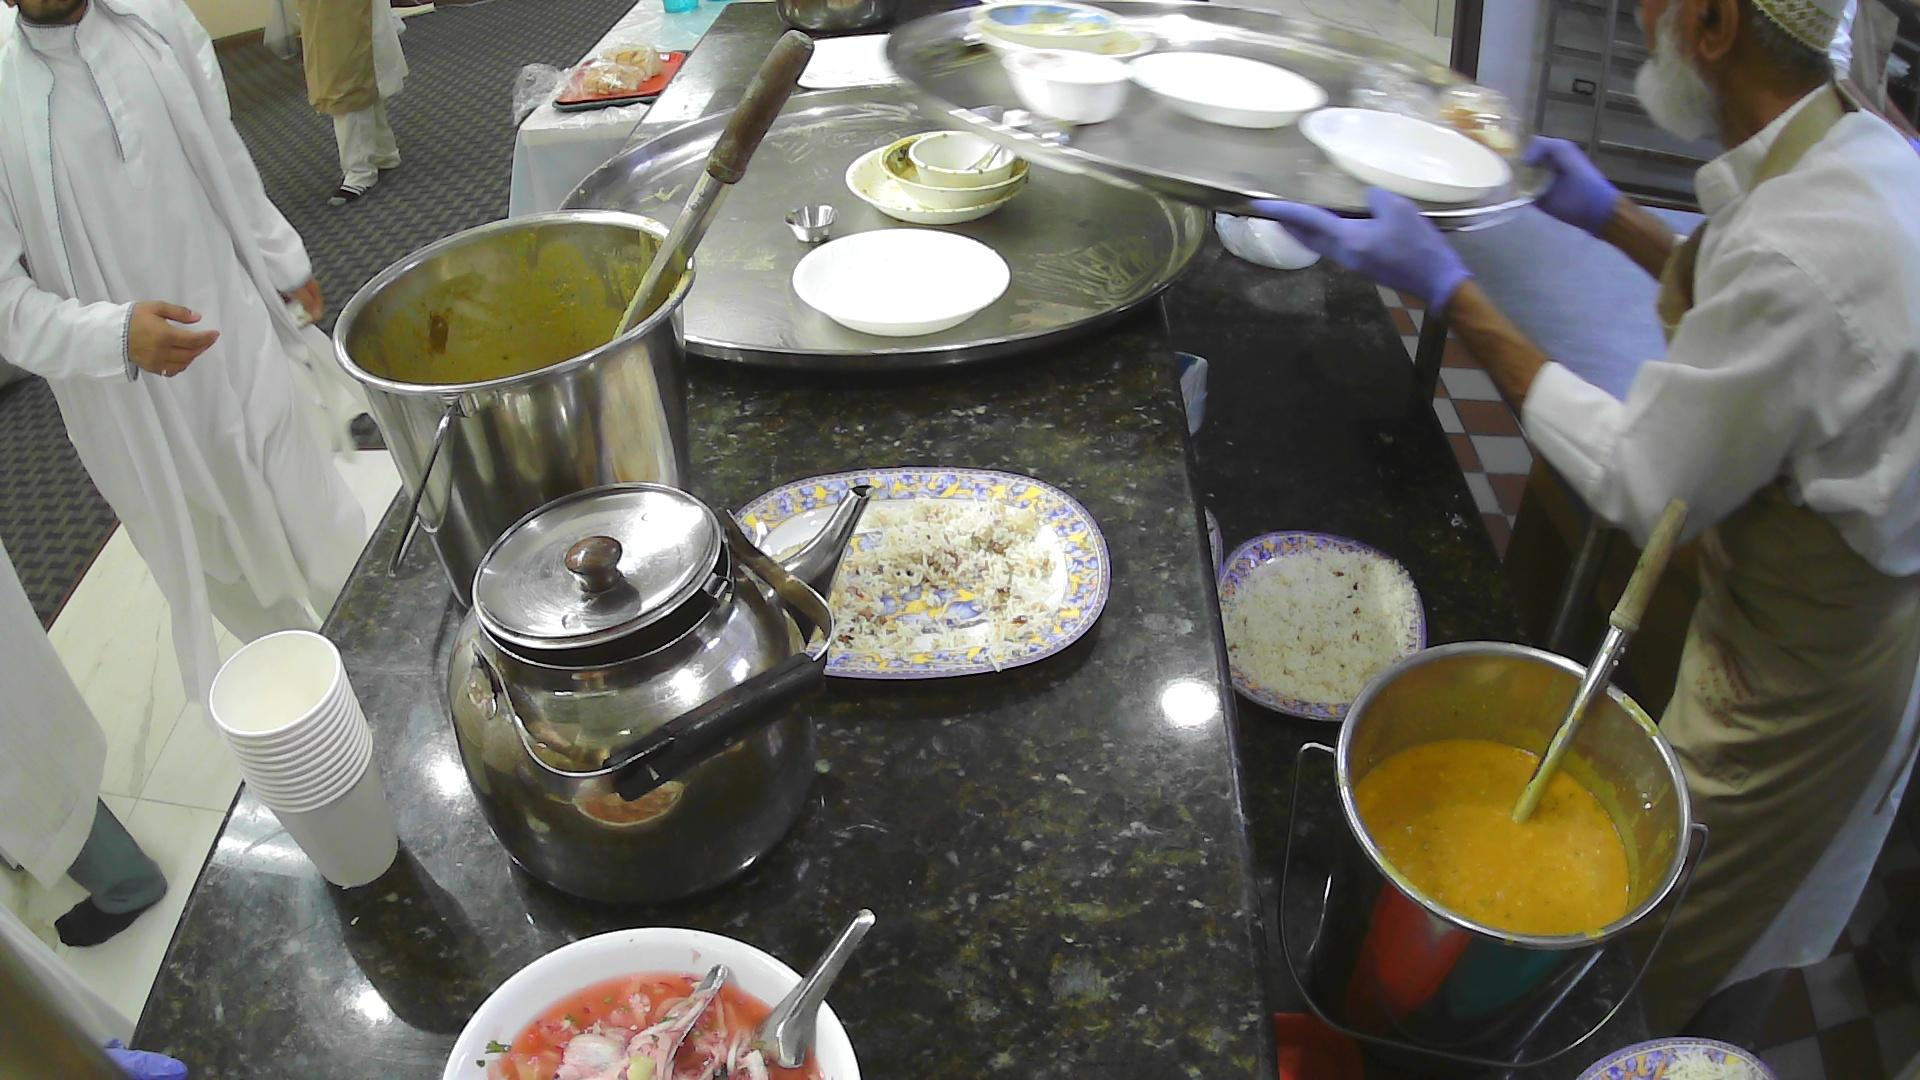thaal: (555, 80, 1218, 380), (878, 0, 1564, 236)
